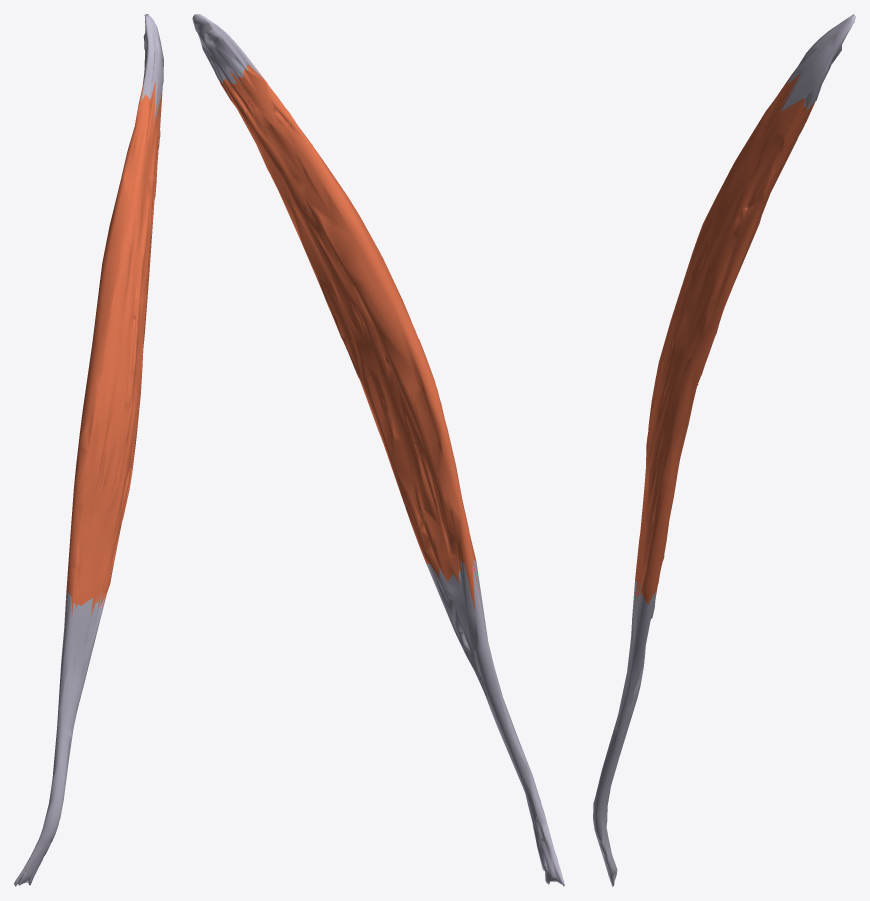
File: Flexor_carpi_radialis.r_Generated_Mesh_From_X3D.737.glb
The picture shows the model from 3 angles, left to right: view 1: azimuth 30°, elevation 25°; view 2: azimuth 150°, elevation 25°; view 3: azimuth 270°, elevation 25°; orthographic projection. The views are drawn at different scales.
Parts seen in each view (by area): view 1: Flexor_carpi_radialis.r_Generated_Mesh_From_X3D.737; view 2: Flexor_carpi_radialis.r_Generated_Mesh_From_X3D.737; view 3: Flexor_carpi_radialis.r_Generated_Mesh_From_X3D.737.
Part boxes in pixels (bbox=[...]): Flexor_carpi_radialis.r_Generated_Mesh_From_X3D.737: bbox=[14, 14, 163, 886]; Flexor_carpi_radialis.r_Generated_Mesh_From_X3D.737: bbox=[192, 14, 564, 886]; Flexor_carpi_radialis.r_Generated_Mesh_From_X3D.737: bbox=[593, 14, 855, 886].
Size of the model in its own units: 0.0907 by 0.2858 by 0.0677.
